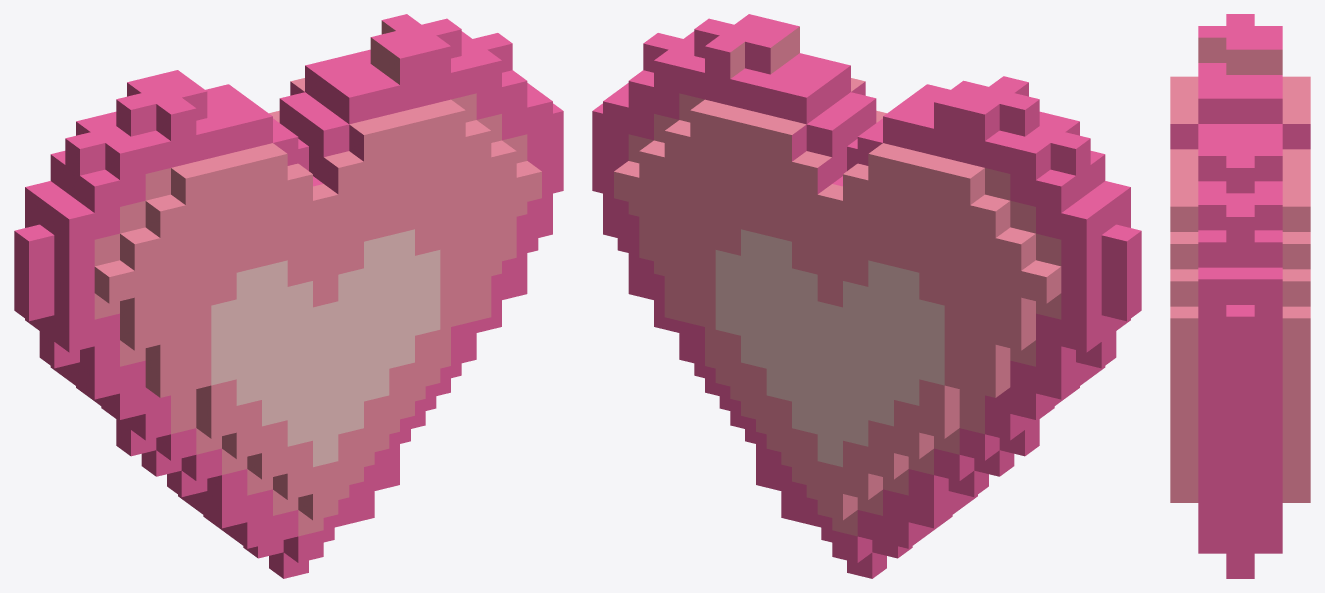
The model's file is Heart.fbx.
3 renders of one model, left to right at view 1: azimuth 30°, elevation 25°; view 2: azimuth 150°, elevation 25°; view 3: azimuth 270°, elevation 25°, orthographic. The views are drawn at different scales.
Parts seen in each view (by area): view 1: Heart; view 2: Heart; view 3: Heart.
Boxes of the visible parts, x1,y1,x2,y2 form: Heart: (14,14,563,578); Heart: (592,14,1141,578); Heart: (1170,14,1310,578).
Size of the model in its own units: 2.1 by 0.5 by 1.9.
